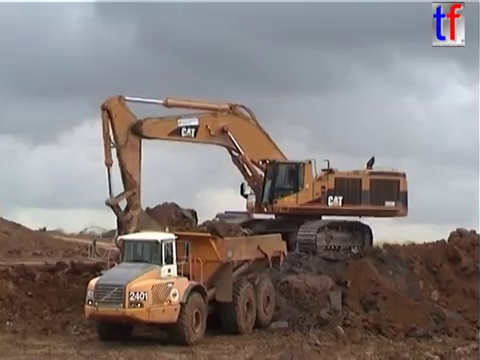excavator: (97, 92, 412, 263)
truck: (81, 226, 291, 347), (209, 209, 290, 250)
